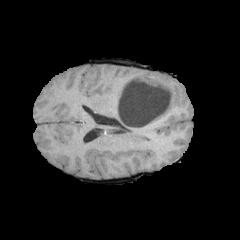glioma: (115, 74, 179, 137)
